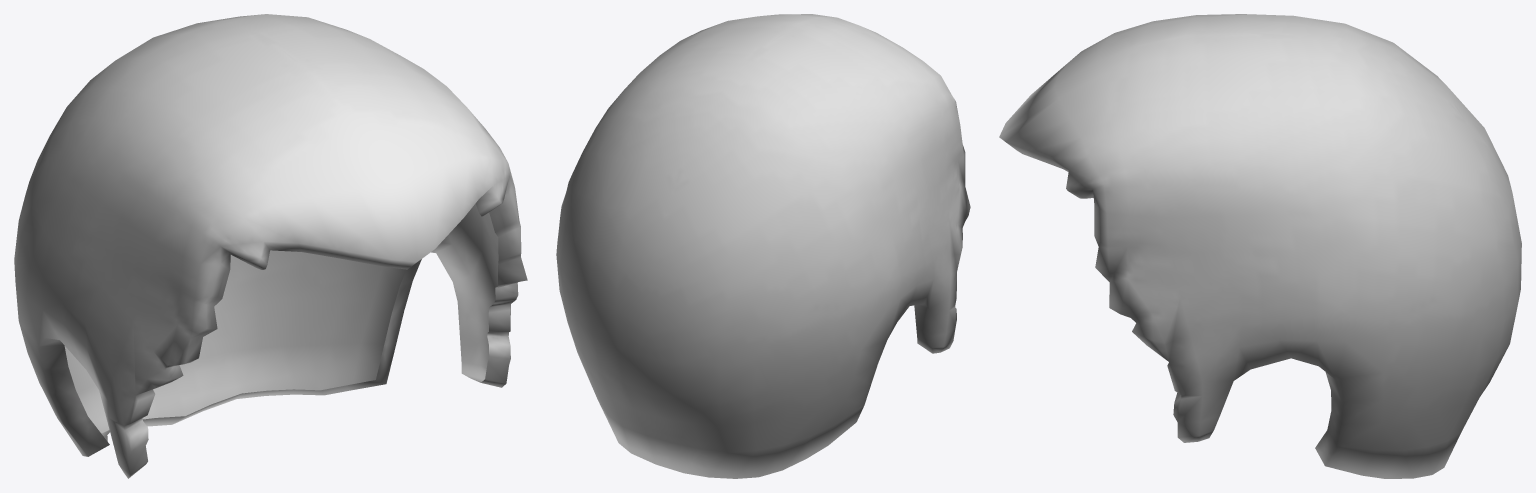
Rendered from hair-buzz-f.glb.
3 views of the same model, side by side, from view 1: azimuth 30°, elevation 25°; view 2: azimuth 150°, elevation 25°; view 3: azimuth 270°, elevation 25° (orthographic). The views are drawn at different scales.
Parts seen in each view (by area): view 1: hair-buzz-f; view 2: hair-buzz-f; view 3: hair-buzz-f.
Boxes of the visible parts, x1,y1,x2,y2 form: hair-buzz-f: [14, 14, 527, 478]; hair-buzz-f: [556, 14, 970, 478]; hair-buzz-f: [999, 14, 1521, 478].
Bounding box in the file's own units: 0.1587 × 0.1715 × 0.1969.
Materials: 1 (1 with a texture image).
